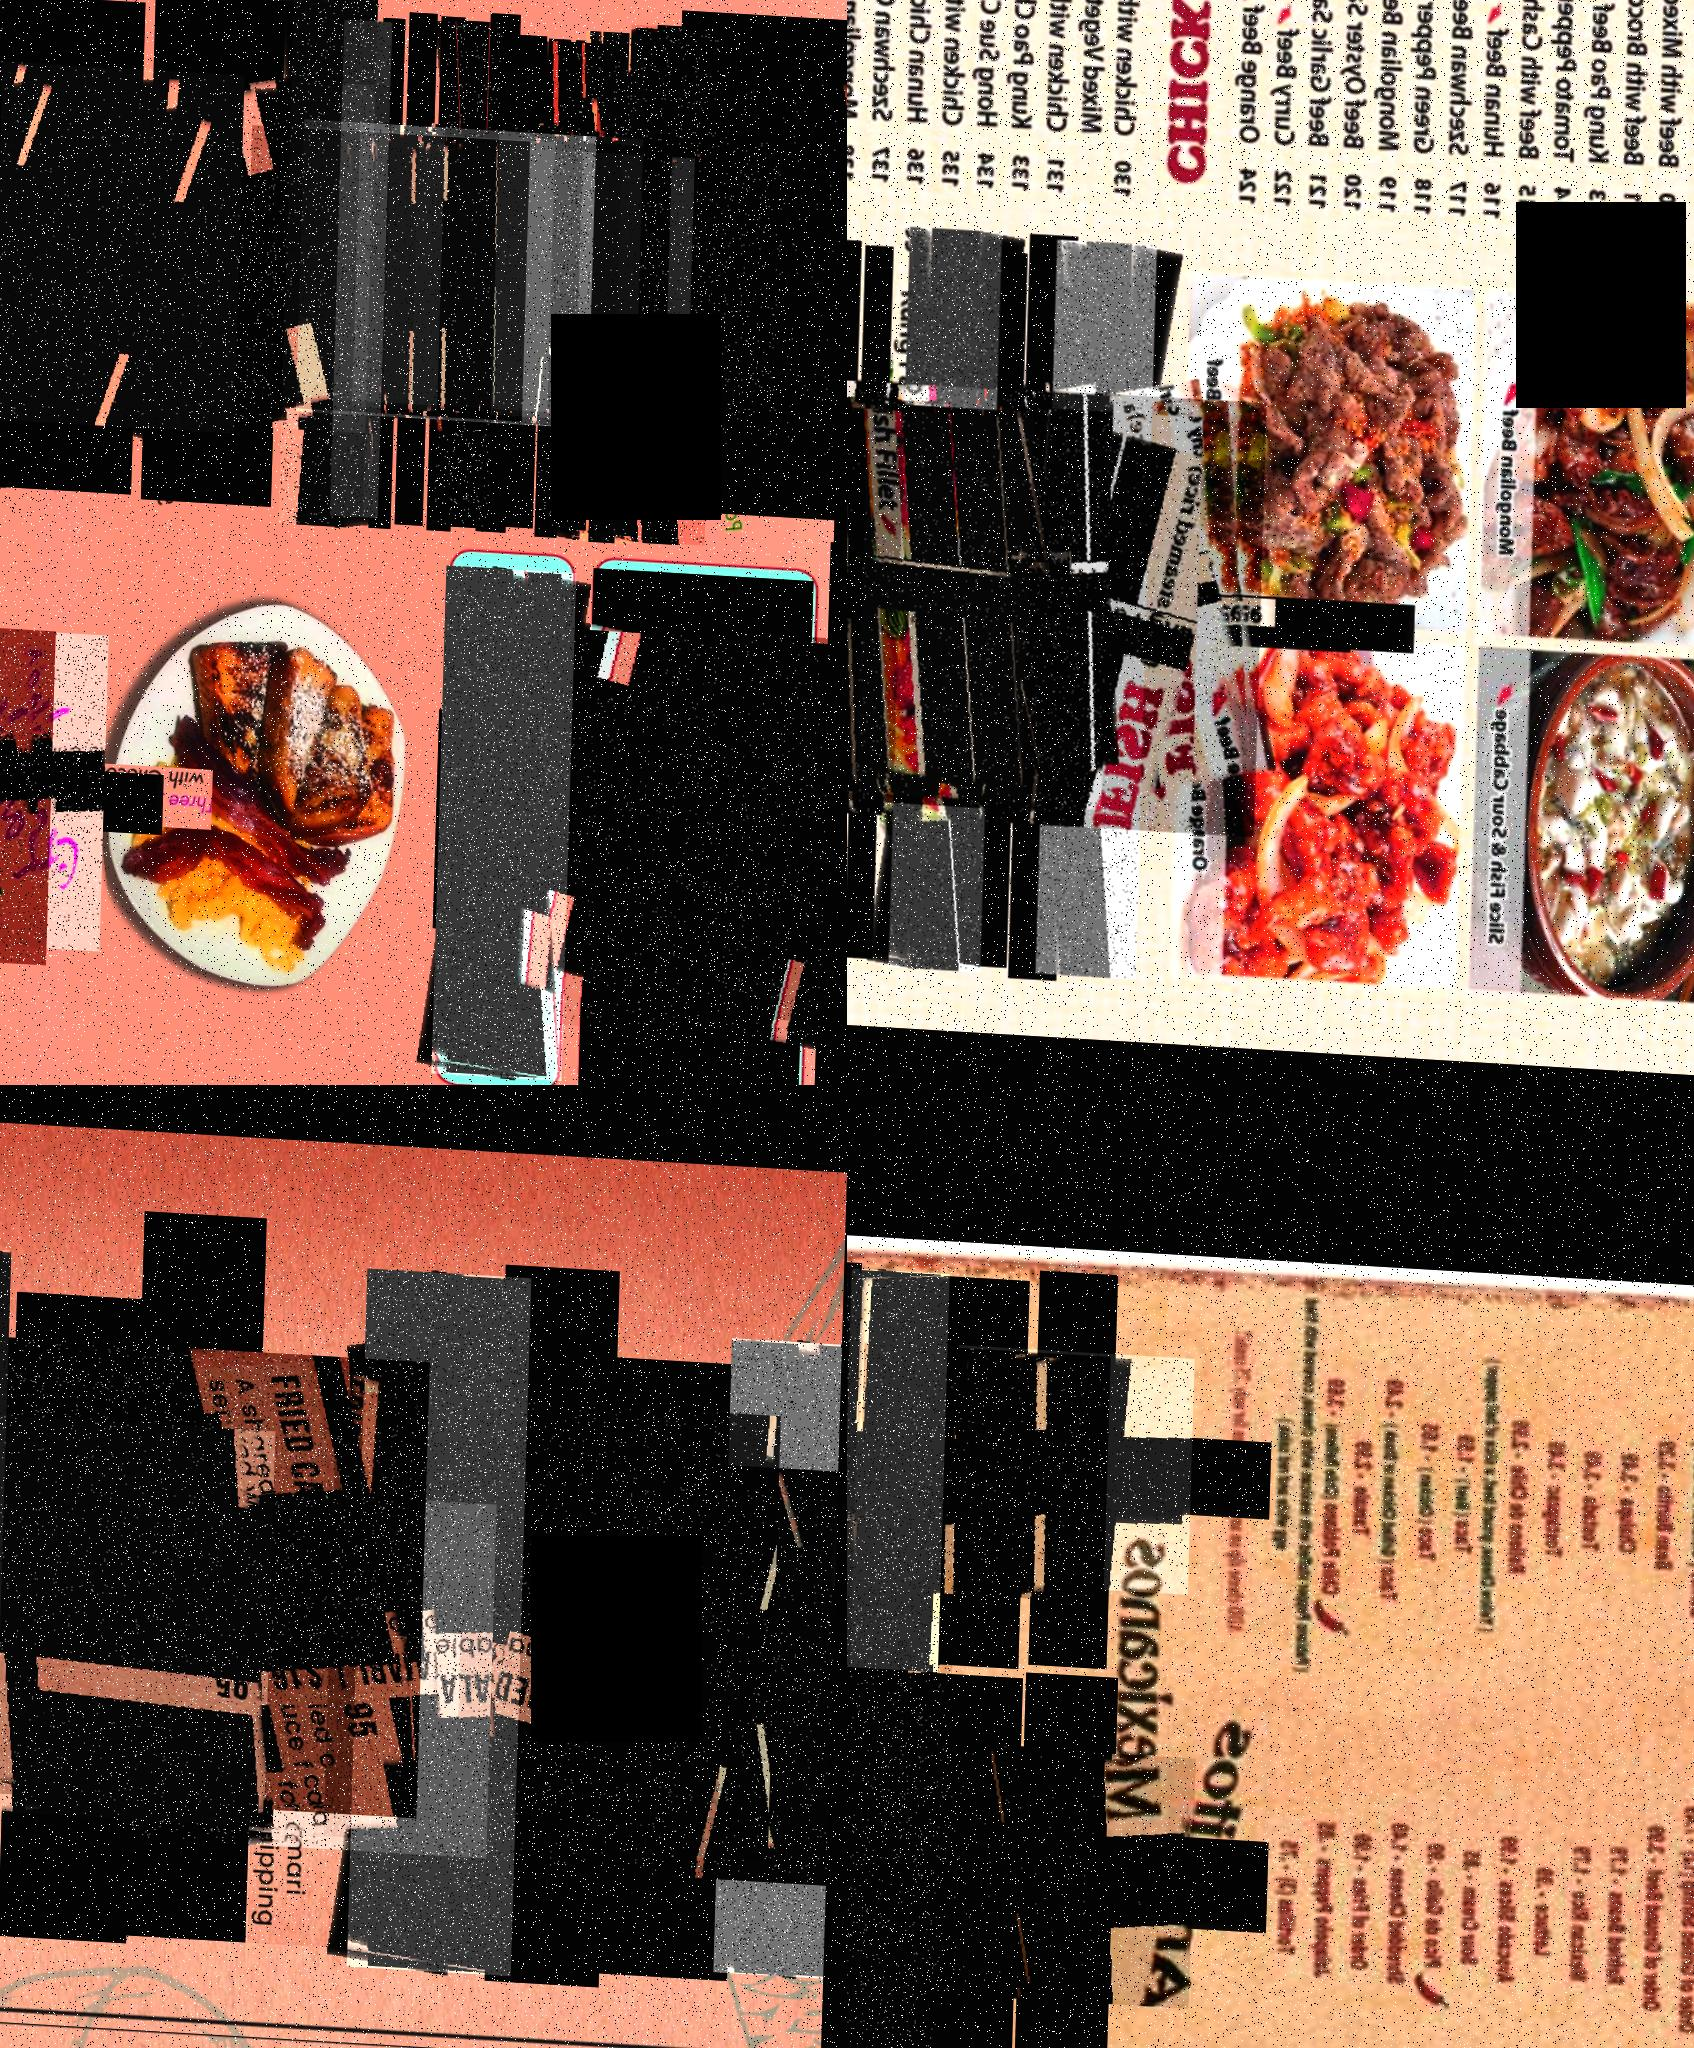Menu-Items: (328, 1376, 782, 1842), (0, 1327, 430, 1803), (847, 371, 1270, 825), (459, 1434, 842, 1866), (847, 388, 1208, 815), (500, 612, 838, 1024), (134, 1473, 500, 1842), (39, 60, 395, 424), (352, 1254, 532, 1960), (847, 367, 1117, 799), (0, 1398, 277, 1813), (592, 54, 847, 441), (847, 388, 1078, 803), (0, 49, 247, 424), (301, 111, 599, 415), (493, 117, 787, 420), (383, 121, 675, 418), (1044, 231, 1162, 970), (357, 112, 646, 410), (248, 116, 532, 410), (896, 219, 1007, 964), (415, 131, 697, 420), (719, 1320, 845, 1958), (282, 117, 558, 400), (847, 391, 1037, 794), (441, 555, 582, 1068), (847, 1727, 1106, 1990), (941, 1732, 1199, 1994), (859, 1332, 1111, 1589), (954, 1334, 1196, 1580), (696, 616, 838, 1005), (622, 10, 721, 531), (282, 0, 379, 519), (847, 1643, 954, 2041), (543, 29, 628, 519), (847, 1259, 951, 1660), (0, 612, 114, 944), (577, 17, 648, 531), (439, 9, 505, 517), (335, 10, 395, 507), (847, 1706, 913, 1990), (1075, 0, 1153, 202), (1333, 0, 1386, 214), (1510, 0, 1561, 219), (1619, 0, 1667, 230), (1231, 0, 1286, 197), (966, 0, 1019, 201), (1580, 0, 1628, 218), (1306, 0, 1354, 209), (1446, 0, 1492, 213), (1651, 0, 1694, 228), (1413, 0, 1458, 214), (1480, 0, 1524, 214), (866, 0, 917, 184), (1379, 0, 1422, 218), (1551, 0, 1592, 218), (1043, 0, 1087, 201), (901, 0, 947, 187), (1274, 0, 1316, 199), (934, 0, 978, 189), (1005, 0, 1044, 185), (847, 0, 883, 185)
